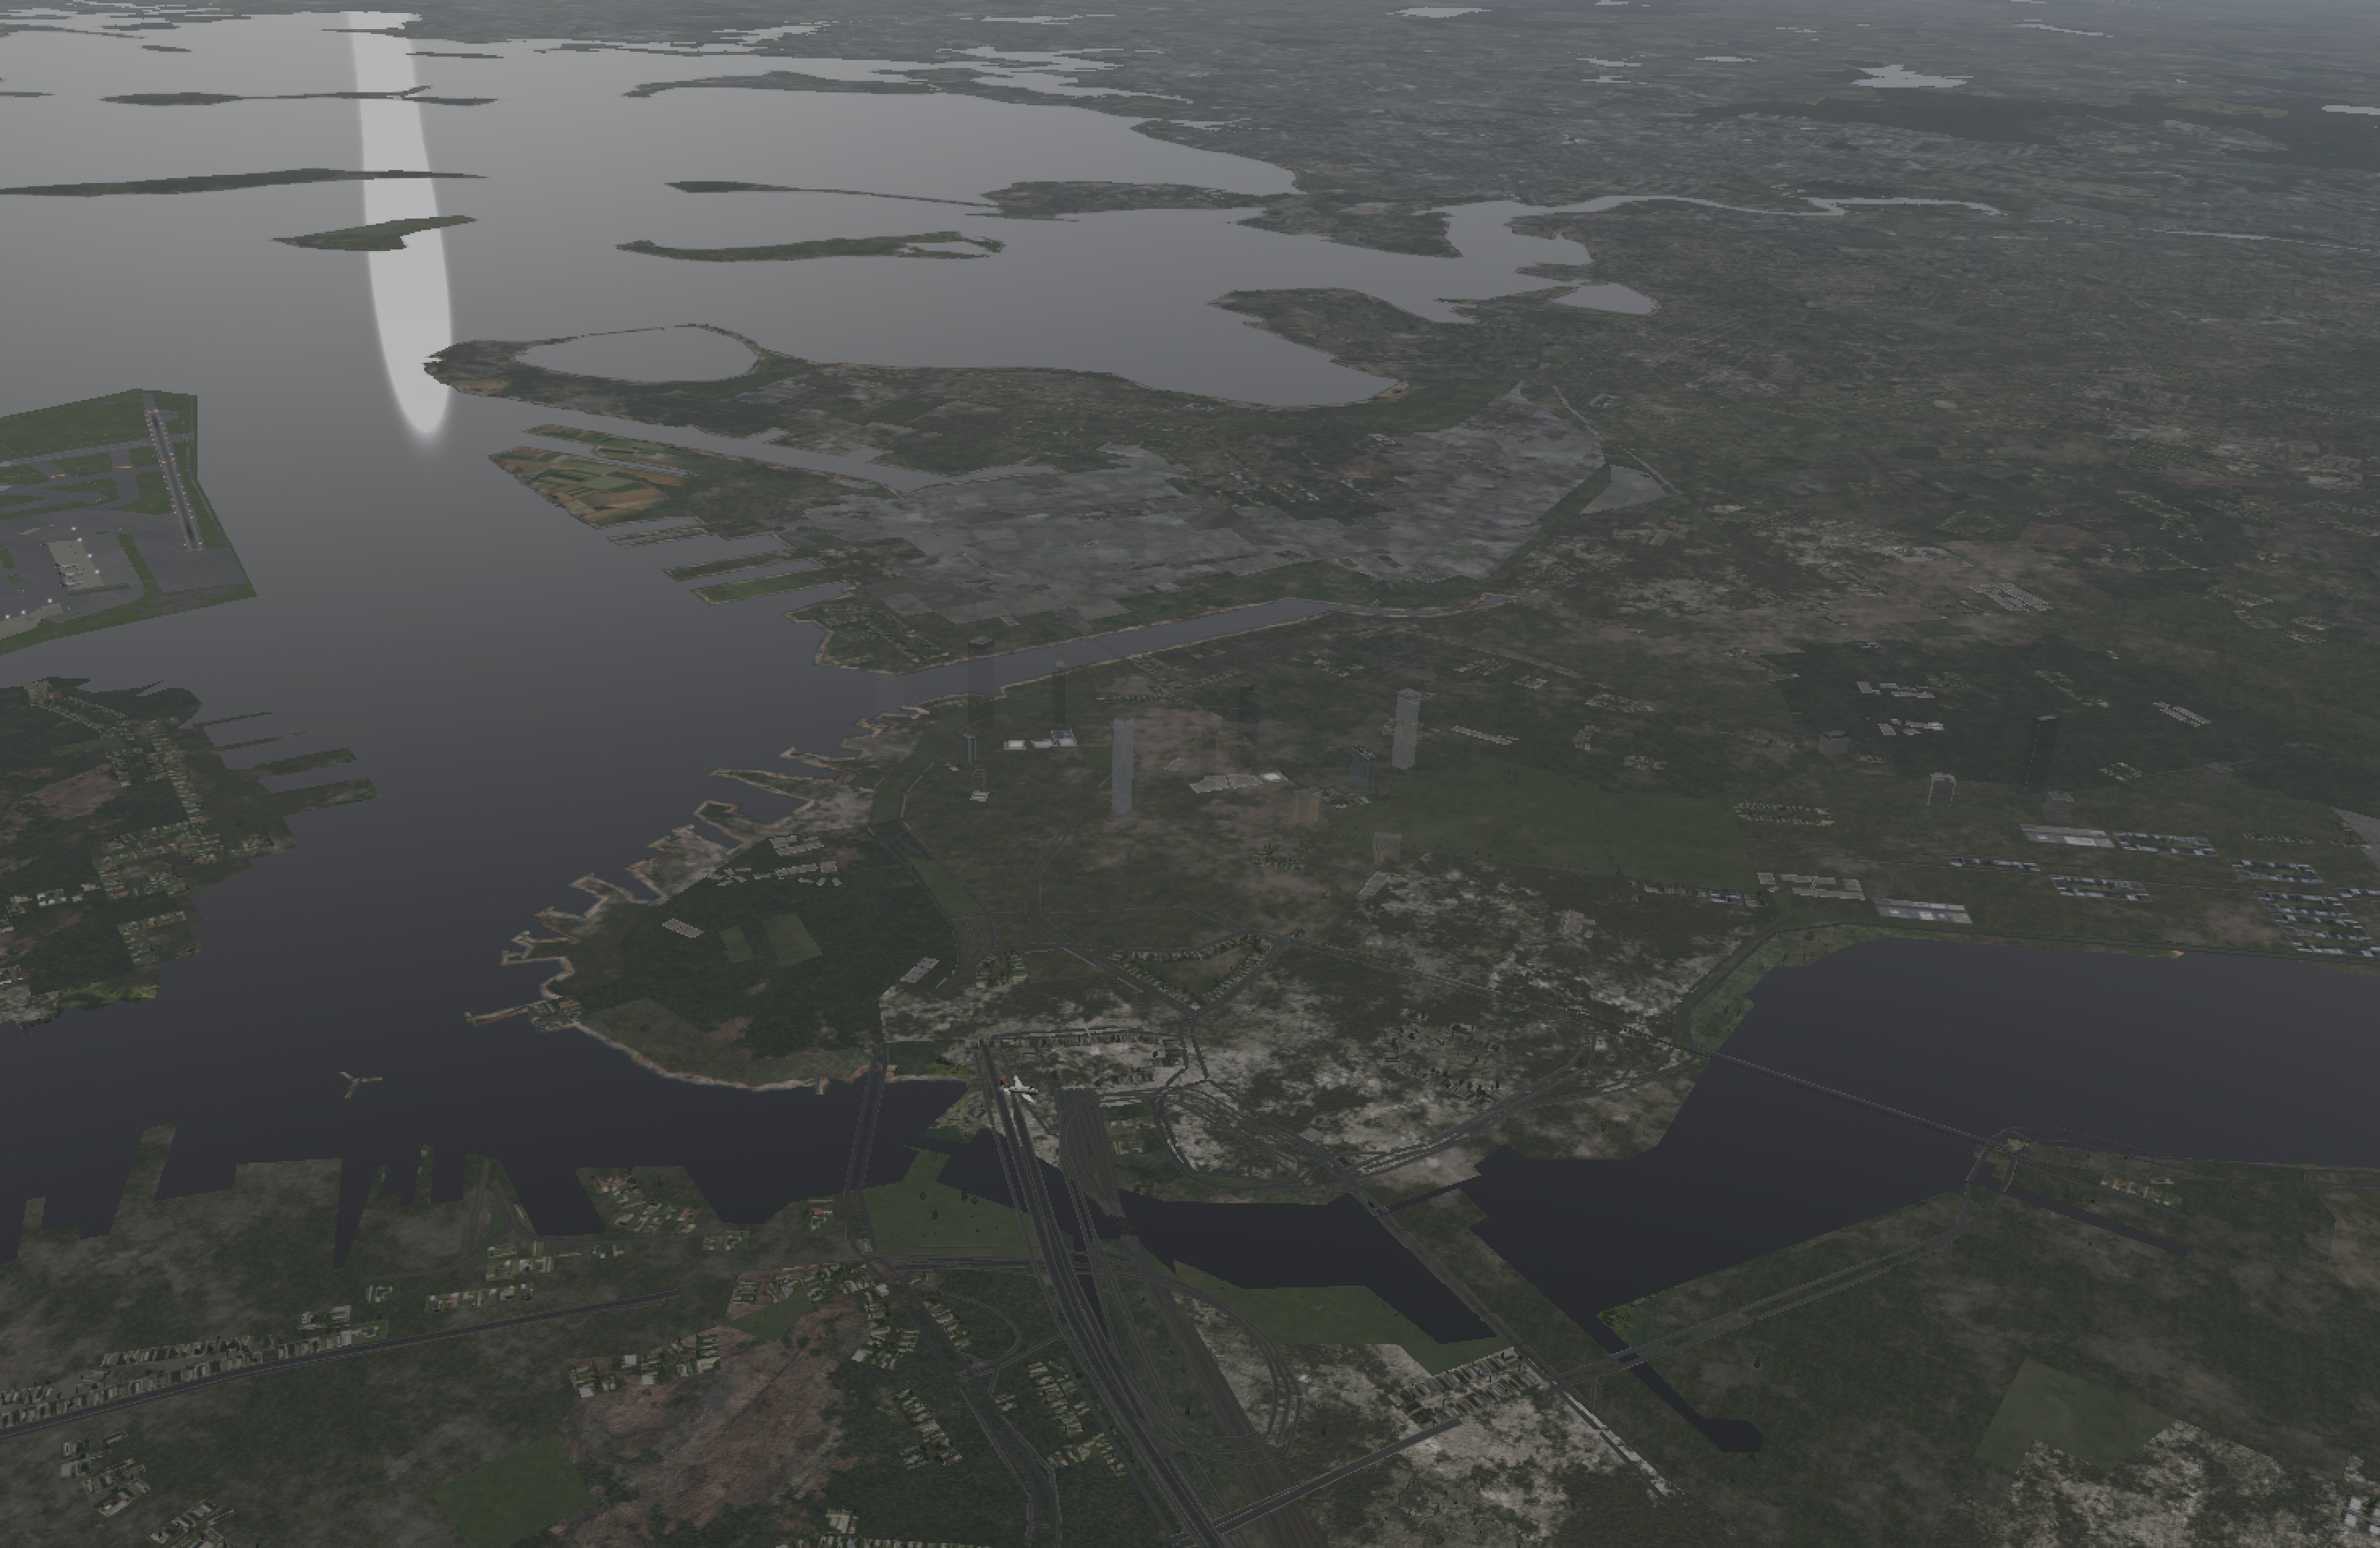aircraft: (996, 1081, 1055, 1104)
